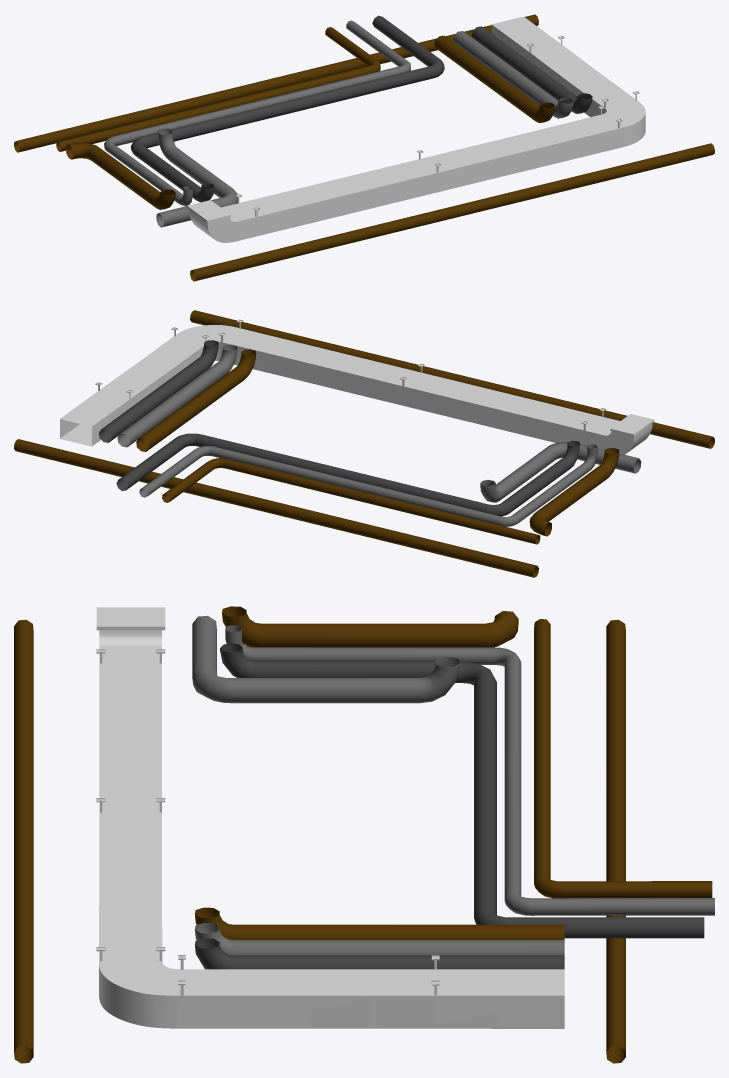
File: SM_H_Building_Tide_Examinationroom_02A_ATLAS.fbx
3 renders of one model, top to bottom at view 1: azimuth 30°, elevation 25°; view 2: azimuth 150°, elevation 25°; view 3: azimuth 270°, elevation 25°, orthographic. The views are drawn at different scales.
Parts seen in each view (by area): view 1: SM_H_Building_Tide_Examinationroom_02A_ATLAS; view 2: SM_H_Building_Tide_Examinationroom_02A_ATLAS; view 3: SM_H_Building_Tide_Examinationroom_02A_ATLAS.
Part boxes in pixels (left/top/right/bottom): SM_H_Building_Tide_Examinationroom_02A_ATLAS: left=14, top=14, right=714, bottom=281; SM_H_Building_Tide_Examinationroom_02A_ATLAS: left=14, top=310, right=714, bottom=577; SM_H_Building_Tide_Examinationroom_02A_ATLAS: left=14, top=606, right=714, bottom=1063.
Size of the model in its own units: 1522 by 1058 by 100.
